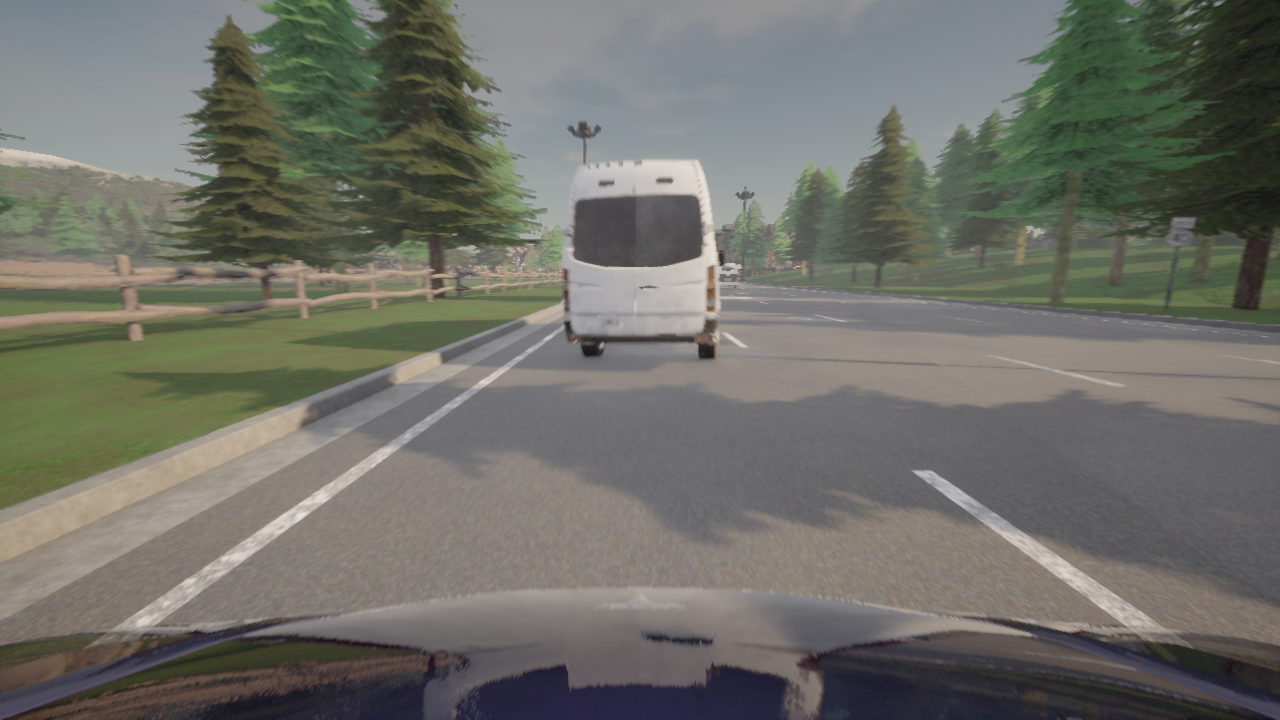cyclist: (0, 588, 1279, 719), (562, 160, 725, 359), (718, 263, 738, 288)
